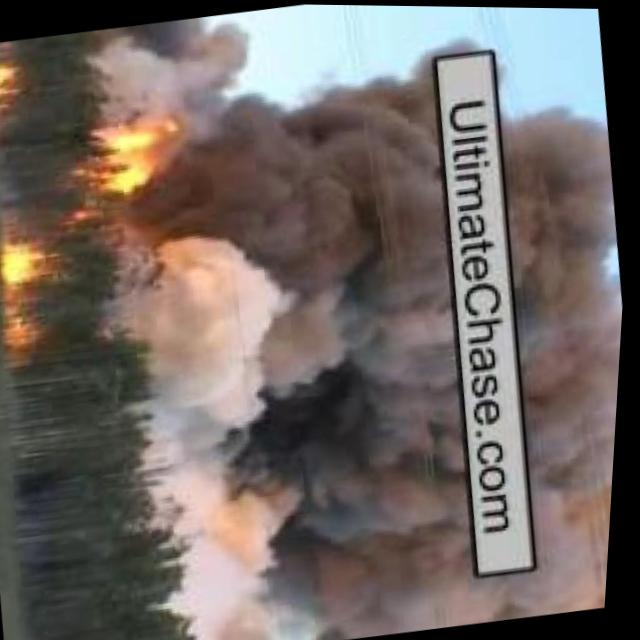Fire: (80, 106, 196, 201), (5, 238, 56, 292), (4, 315, 54, 355), (0, 61, 23, 102)
